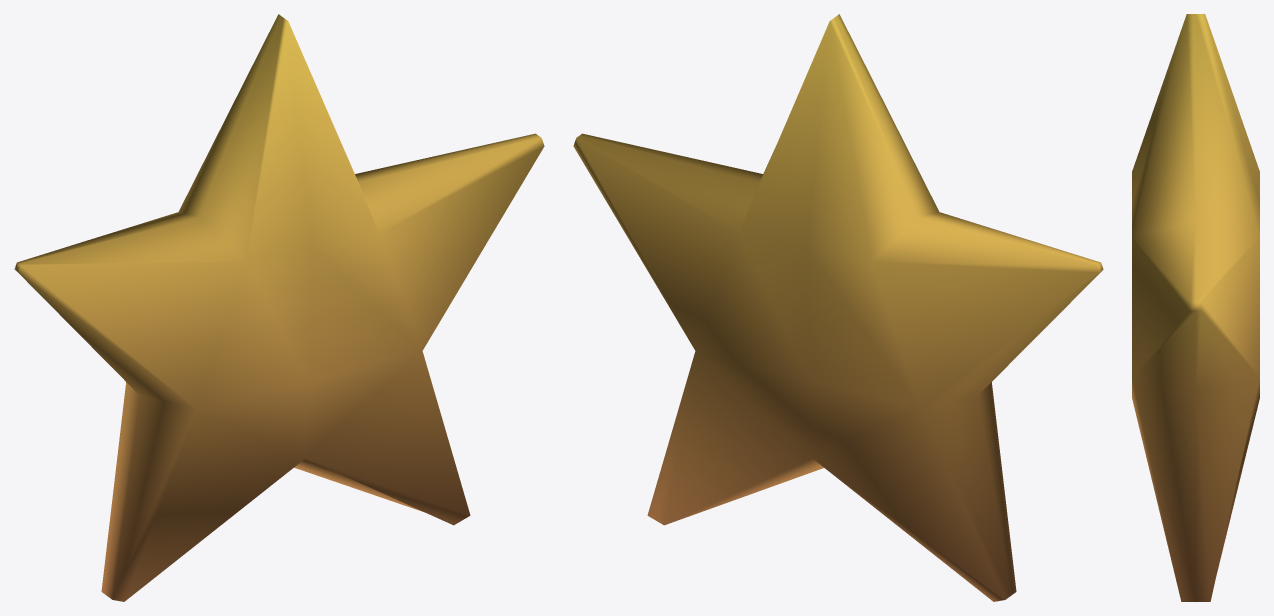
The model's file is SM_Star_01.fbx.
3 views of the same model, side by side, from view 1: azimuth 30°, elevation 25°; view 2: azimuth 150°, elevation 25°; view 3: azimuth 270°, elevation 25° (orthographic). The views are drawn at different scales.
Visible parts, largest first — view 1: SM_Star_01; view 2: SM_Star_01; view 3: SM_Star_01.
Boxes of the visible parts, <box> form: SM_Star_01: <box>14,14,544,601</box>; SM_Star_01: <box>573,14,1103,601</box>; SM_Star_01: <box>1132,14,1259,601</box>.
Size of the model in its own units: 3.29 by 3.25 by 0.7365.
